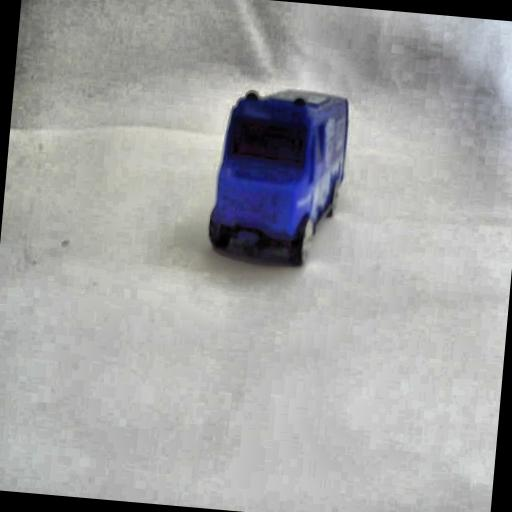police car: (200, 87, 354, 268)
